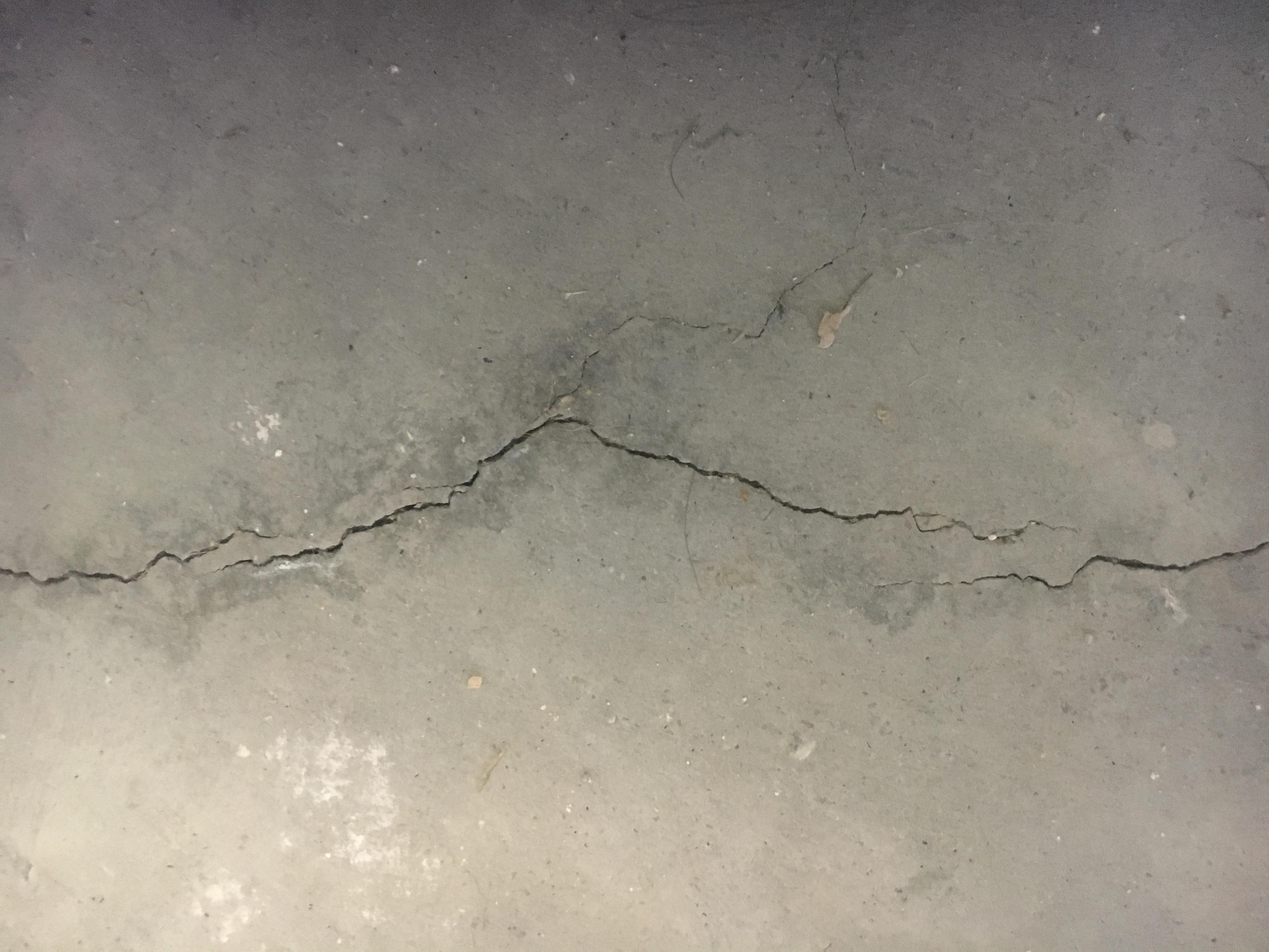Hairline-Crack: (542, 313, 747, 423), (751, 303, 776, 328)
Horizontal Settlement Crack: (0, 376, 1269, 670)
